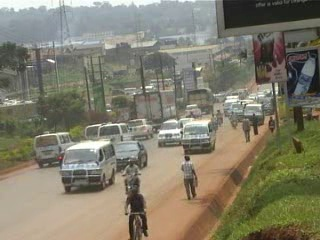Car: (111, 139, 149, 171), (155, 118, 183, 147), (125, 115, 154, 140), (177, 114, 195, 129)
Motorcycle: (119, 160, 147, 206), (228, 111, 237, 129), (215, 105, 223, 125), (209, 114, 217, 134), (186, 109, 197, 119)
